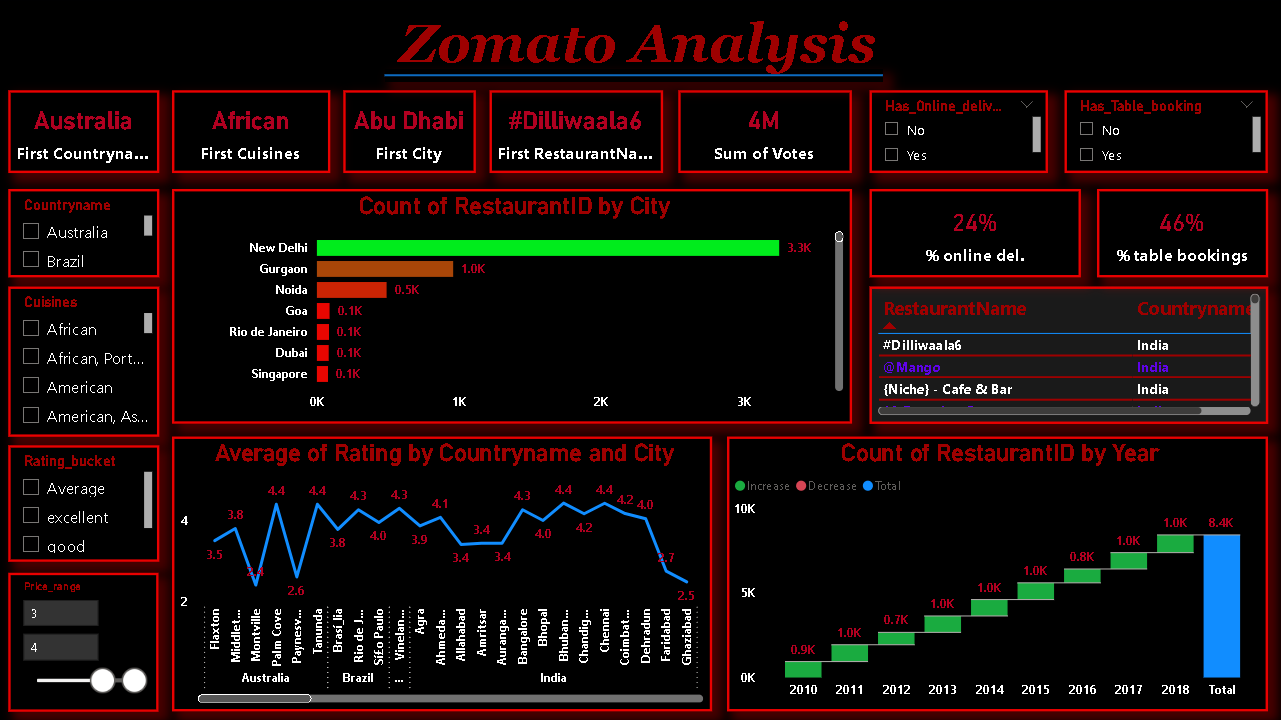

The dashboard page shown, as its layout file describes it:
{"tool":"powerbi","page":{"name":"Dadshboad ","canvas":[1280,720],"ordinal":0},"visuals":[{"type":"shape","box":[0,0,1280,720.3],"z":0},{"type":"card","fields":{"Values":["Min(Main.Countryname)"]},"box":[11.2,90.8,150.5,82.1],"z":1000},{"type":"card","fields":{"Values":["Min(Main.City)"]},"box":[344.6,90.8,131.9,82.1],"z":2000},{"type":"card","fields":{"Values":["Min(Main.RestaurantName)"]},"box":[490.1,90.8,172.9,82.1],"z":3000},{"type":"card","fields":{"Values":["Min(Main.Cuisines)"]},"box":[174.2,90.8,158,82.1],"z":4000},{"type":"card","fields":{"Values":["Sum(Main.Votes)"]},"box":[678,90.8,172.9,82.1],"z":5000},{"type":"slicer","fields":{"Values":["Main.Has_Online_delivery"]},"box":[868.3,90.8,177.9,82.1],"z":6000},{"type":"slicer","fields":{"Values":["Main.Has_Table_booking"]},"box":[1062.3,90.8,202.8,82.1],"z":7000},{"type":"slicer","fields":{"Values":["Main.Countryname"]},"box":[11.2,189.1,150.5,88.3],"z":8000},{"type":"slicer","fields":{"Values":["Main.Cuisines"]},"box":[11.2,286.1,150.5,149.3],"z":9000},{"type":"slicer","fields":{"Values":["Main.Rating_bucket"]},"box":[11.2,444.1,150.5,115.7],"z":10000},{"type":"slicer","fields":{"Values":["Main.Price_range"]},"box":[11.2,571,149.3,138.1],"z":11000},{"type":"clusteredBarChart","fields":{"Category":["Main.City"],"Y":["CountNonNull(Main.RestaurantID)"]},"box":[174.2,189.1,676.7,233.9],"z":12000},{"type":"lineChart","fields":{"Category":["Main.Countryname","Main.City"],"Y":["Avg(Main.Rating)"]},"box":[174.2,435.4,537.4,273.7],"z":13000},{"type":"tableEx","fields":{"Values":["Main.RestaurantName","Main.Countryname"]},"box":[868.3,286.1,396.8,136.8],"z":14000},{"type":"waterfallChart","fields":{"Category":["Main.Date.Variation.Date Hierarchy.Year","Main.Date.Variation.Date Hierarchy.Quarter","Main.Date.Variation.Date Hierarchy.Month","Main.Date.Variation.Date Hierarchy.Day"],"Y":["CountNonNull(Main.RestaurantID)"]},"box":[726.5,435.4,538.6,273.7],"z":15000},{"type":"card","fields":{"Values":["Main.% online del."]},"box":[868.3,189.1,210.2,88.3],"z":16000},{"type":"card","fields":{"Values":["Main.% table bookings"]},"box":[1094.7,189.1,170.4,88.3],"z":17000},{"type":"textbox","box":[11.2,8.7,1253.9,73.4],"z":18000},{"type":"shape","box":[385.6,69.7,496.3,12.4],"z":19000}]}

Visuals, with their boxes in screenshot pixels (x1, y1, x2, y2), scaled from the page's 1280x720 canvas onto the 1281x720 screenshot:
shape: Rect(0, 0, 1280, 719)
card - Min(Main.Countryname): Rect(11, 91, 162, 173)
card - Min(Main.City): Rect(345, 91, 477, 173)
card - Min(Main.RestaurantName): Rect(490, 91, 664, 173)
card - Min(Main.Cuisines): Rect(174, 91, 332, 173)
card - Sum(Main.Votes): Rect(679, 91, 852, 173)
slicer - Main.Has_Online_delivery: Rect(869, 91, 1047, 173)
slicer - Main.Has_Table_booking: Rect(1063, 91, 1266, 173)
slicer - Main.Countryname: Rect(11, 189, 162, 277)
slicer - Main.Cuisines: Rect(11, 286, 162, 435)
slicer - Main.Rating_bucket: Rect(11, 444, 162, 560)
slicer - Main.Price_range: Rect(11, 571, 161, 709)
clusteredBarChart - Main.City x CountNonNull(Main.RestaurantID): Rect(174, 189, 852, 423)
lineChart - Main.Countryname x Main.City: Rect(174, 435, 712, 709)
tableEx - Main.RestaurantName x Main.Countryname: Rect(869, 286, 1266, 423)
waterfallChart - Main.Date.Variation.Date Hierarchy.Year x Main.Date.Variation.Date Hierarchy.Quarter: Rect(727, 435, 1266, 709)
card - Main.% online del.: Rect(869, 189, 1079, 277)
card - Main.% table bookings: Rect(1096, 189, 1266, 277)
textbox: Rect(11, 9, 1266, 82)
shape: Rect(386, 70, 883, 82)
